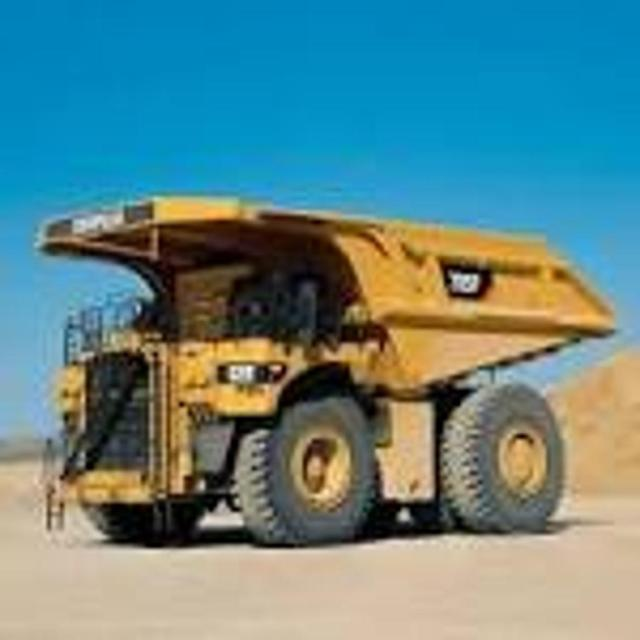dump_truck: (30, 177, 609, 541)
